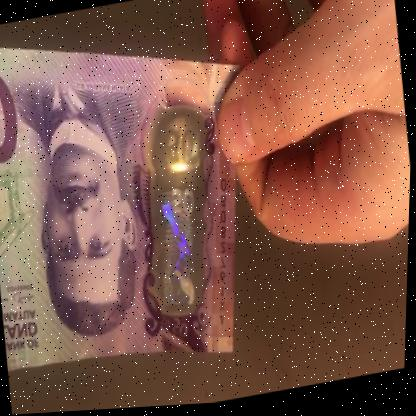50F: (141, 116, 221, 319)
